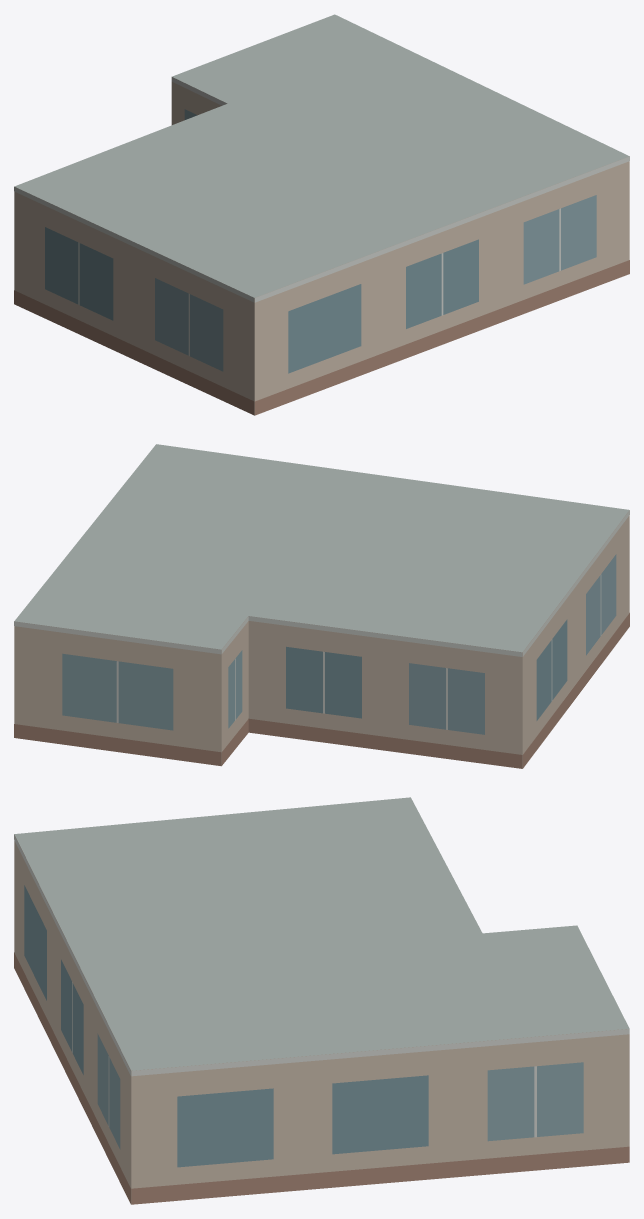
Rendered from survey-upis-32619627.glb.
3 renders of one model, top to bottom at view 1: azimuth 30°, elevation 25°; view 2: azimuth 150°, elevation 25°; view 3: azimuth 270°, elevation 25°, orthographic. The views are drawn at different scales.
Visible parts, largest first — view 1: survey-upis-32619627.tmp; view 2: survey-upis-32619627.tmp; view 3: survey-upis-32619627.tmp.
Boxes of the visible parts, bbox=[...] form: survey-upis-32619627.tmp: bbox=[14, 14, 629, 415]; survey-upis-32619627.tmp: bbox=[14, 444, 629, 768]; survey-upis-32619627.tmp: bbox=[14, 797, 629, 1204].
Size of the model in its own units: 13.38 by 3.05 by 12.73.
